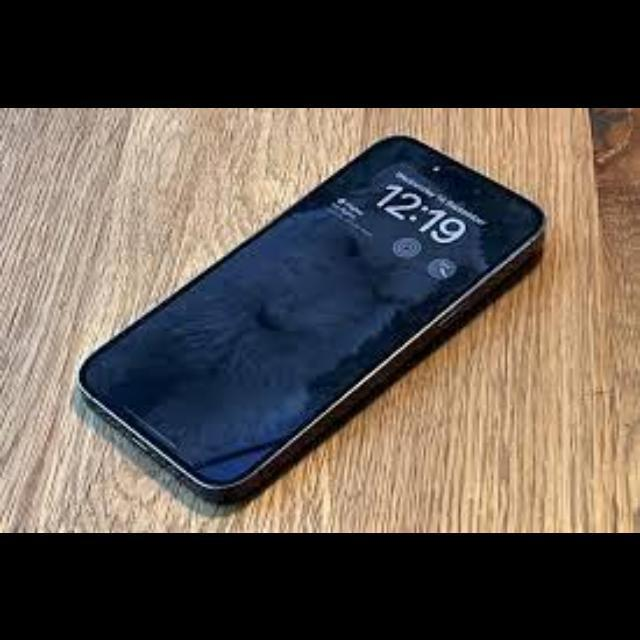phone: (67, 131, 545, 508)
